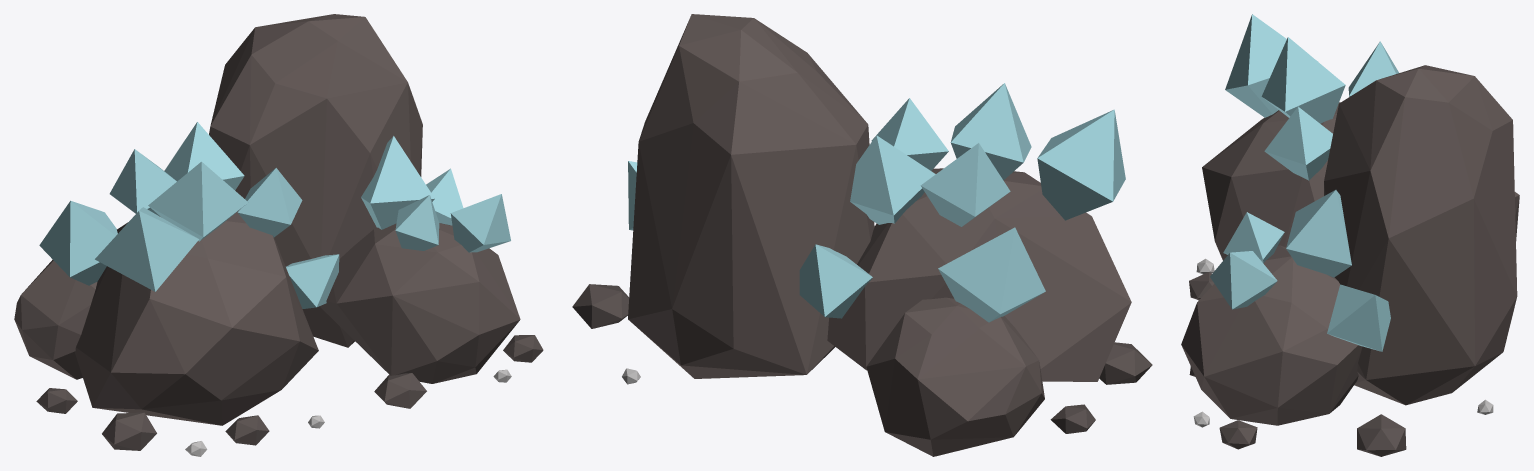
The model's file is diamond-ore-deposit-4dafd4.glb.
3 views of the same model, side by side, from view 1: azimuth 30°, elevation 25°; view 2: azimuth 150°, elevation 25°; view 3: azimuth 270°, elevation 25° (orthographic). The views are drawn at different scales.
Parts seen in each view (by area): view 1: deposit-rock, crystals-mesh; view 2: deposit-rock, crystals-mesh; view 3: deposit-rock, crystals-mesh.
Boxes of the visible parts, x1,y1,x2,y2 form: deposit-rock: (14, 14, 543, 456); crystals-mesh: (39, 122, 510, 308); deposit-rock: (572, 14, 1152, 456); crystals-mesh: (628, 83, 1125, 322); deposit-rock: (1181, 65, 1519, 456); crystals-mesh: (1210, 14, 1398, 351).
Bounding box in the file's own units: 1.64 × 1.06 × 1.04.
